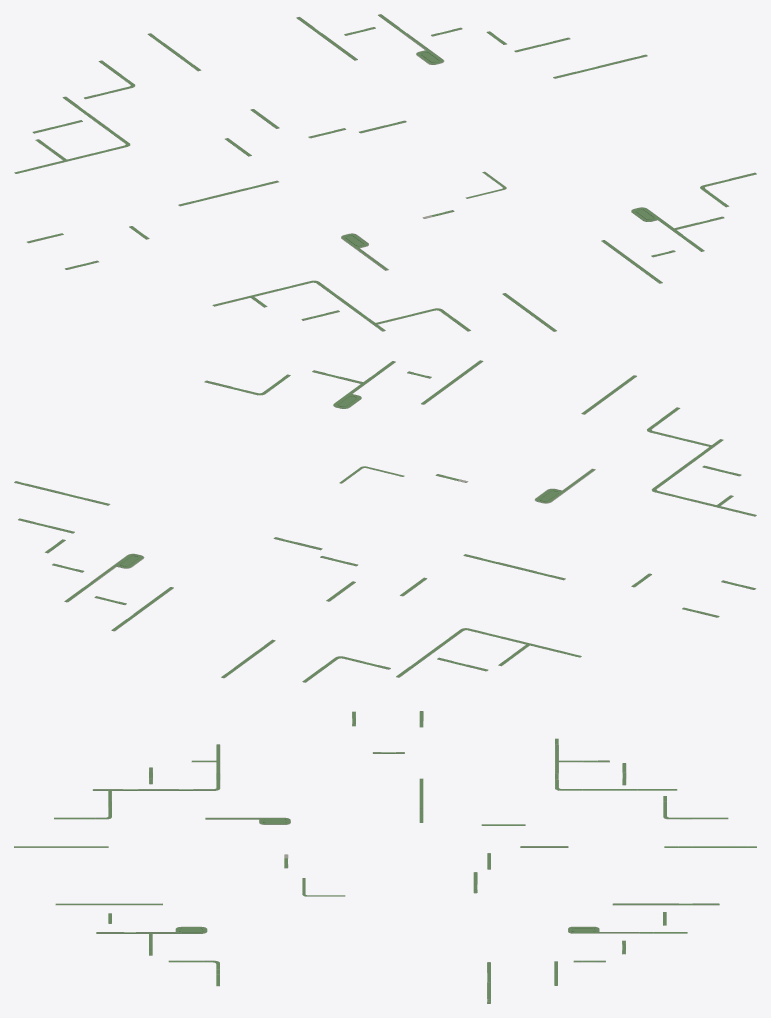
Rendered from Grass_sidewalk_D6.fbx.
3 renders of one model, top to bottom at view 1: azimuth 30°, elevation 25°; view 2: azimuth 150°, elevation 25°; view 3: azimuth 270°, elevation 25°, orthographic. The views are drawn at different scales.
Bounding box in the file's own units: 219066 × 132 × 235069.
